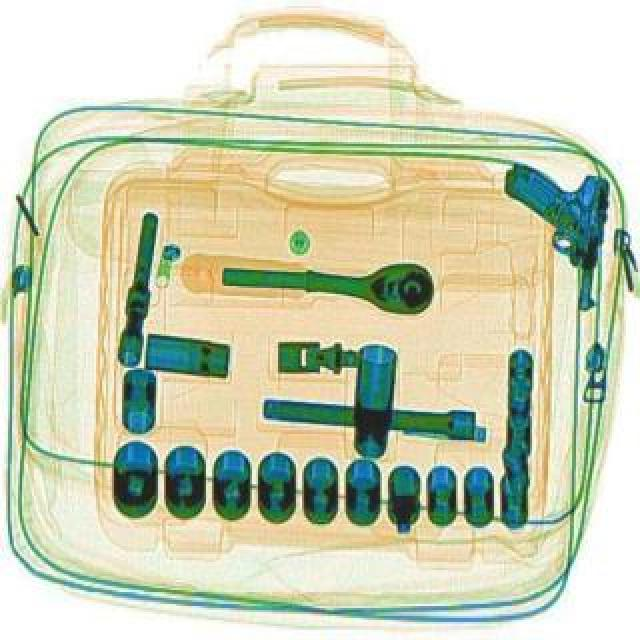gun: (494, 164, 616, 316)
